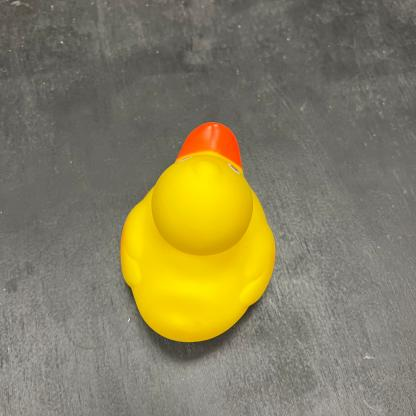duck: (118, 119, 279, 346)
